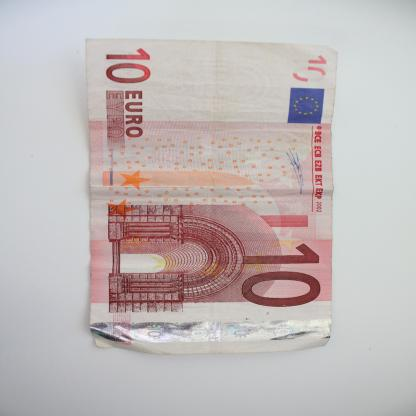euro_banknote: (55, 70, 371, 323)
